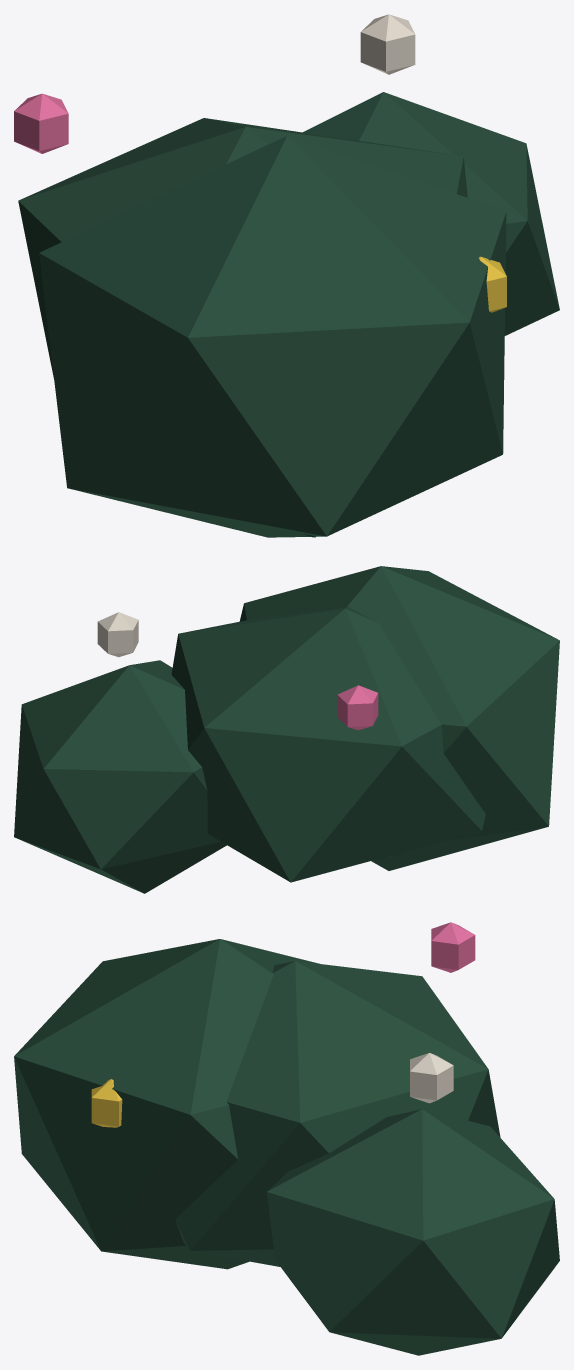
The model's file is bush.glb.
3 views of the same model, one above another, from view 1: azimuth 30°, elevation 25°; view 2: azimuth 150°, elevation 25°; view 3: azimuth 270°, elevation 25° (orthographic). The views are drawn at different scales.
Parts seen in each view (by area): view 1: bush; view 2: bush; view 3: bush.
Part boxes in pixels (x1,y1,x2,y2): bush: (14, 14, 559, 537); bush: (14, 566, 559, 893); bush: (14, 922, 559, 1355).
Size of the model in its own units: 3.63 by 2.39 by 3.51.
